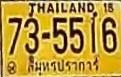1: (90, 17, 96, 54)
3: (24, 17, 38, 53)
5: (52, 17, 67, 53), (69, 16, 83, 53)
6: (101, 16, 116, 52)
7: (8, 17, 21, 54)
SPK: (26, 59, 100, 75)
